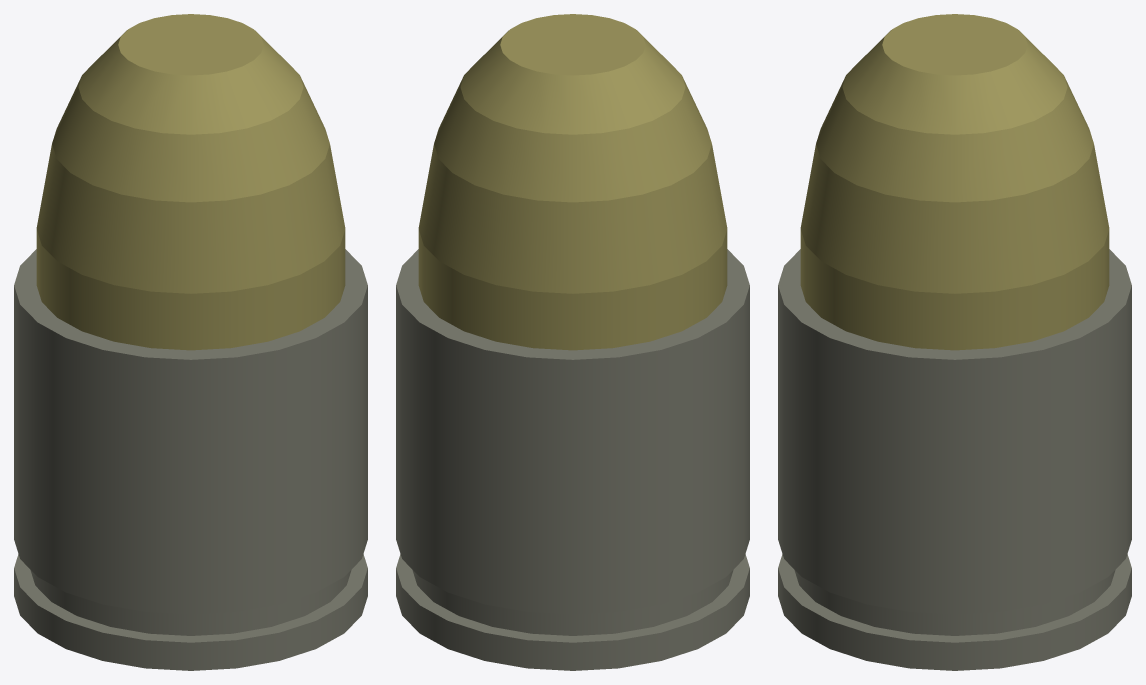
Rendered from ammo_machinegunLauncher.glb.
The picture shows the model from 3 angles, left to right: view 1: azimuth 30°, elevation 25°; view 2: azimuth 150°, elevation 25°; view 3: azimuth 270°, elevation 25°; orthographic projection.
Visible parts, largest first — view 1: ammo_machinegunLauncher; view 2: ammo_machinegunLauncher; view 3: ammo_machinegunLauncher.
Boxes of the visible parts, left/top/right/bottom form: ammo_machinegunLauncher: left=14, top=14, right=367, bottom=670; ammo_machinegunLauncher: left=396, top=14, right=749, bottom=670; ammo_machinegunLauncher: left=778, top=14, right=1131, bottom=670.
Size of the model in its own units: 0.0068 by 0.0117 by 0.0068.
